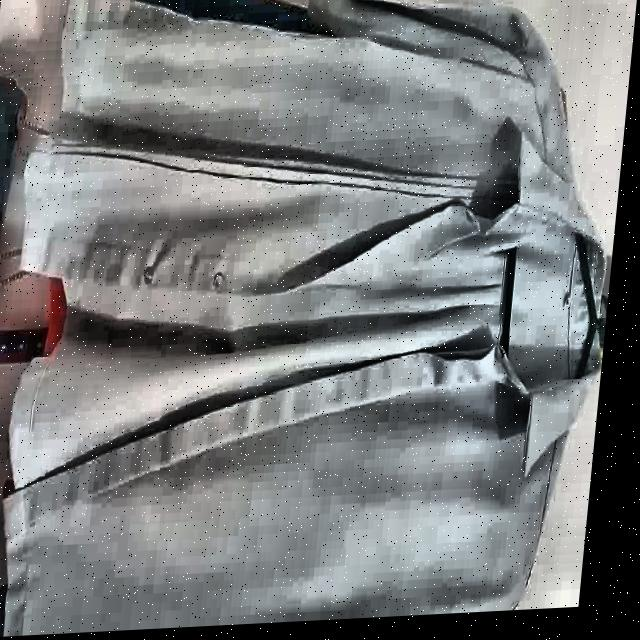clothes: (0, 0, 639, 638)
